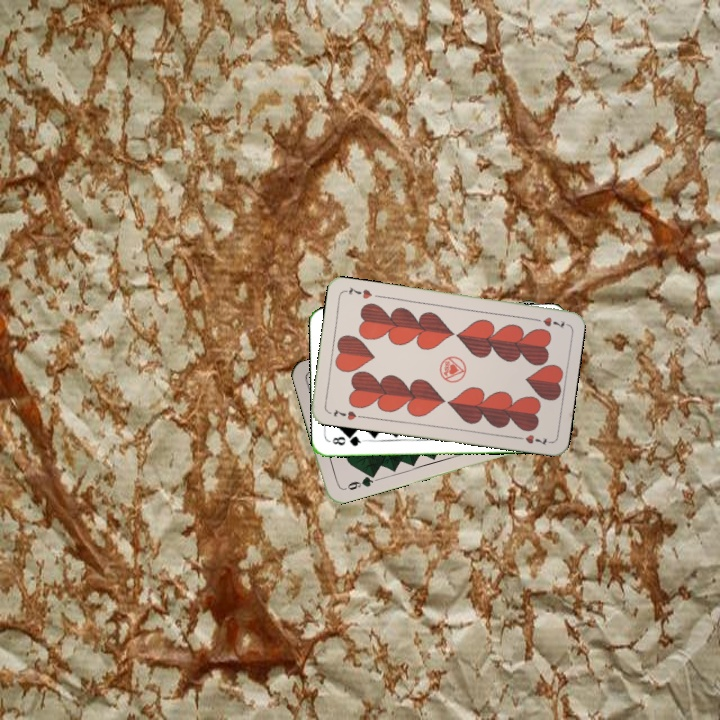G8: (328, 432, 367, 449)
G9: (339, 471, 377, 493)
H7: (528, 313, 567, 330), (330, 405, 359, 423)
